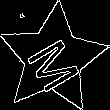M_NE: (20, 26, 86, 91)
